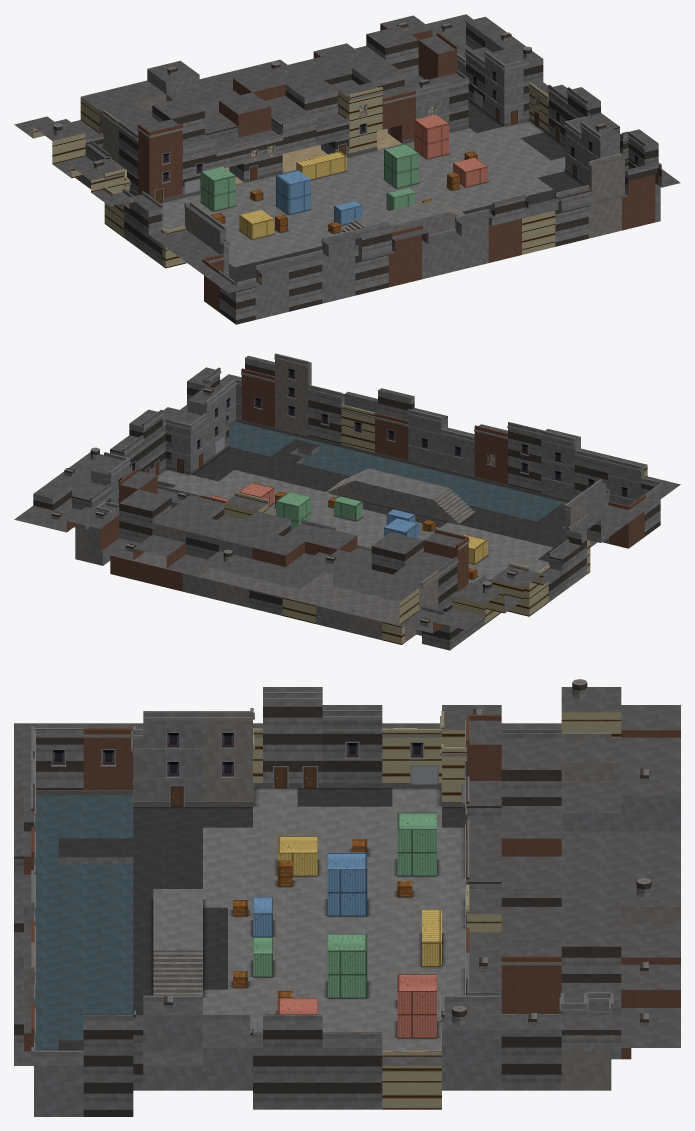
File: harbor_v3.gltf
3 renders of one model, top to bottom at view 1: azimuth 30°, elevation 25°; view 2: azimuth 150°, elevation 25°; view 3: azimuth 270°, elevation 25°, orthographic. The views are drawn at different scales.
Parts seen in each view (by area): view 1: Quarter, Detail, Windows, Shadows; view 2: Quarter, Detail, Windows, Steps; view 3: Quarter, Detail, Shadows, Windows, Steps.
Boxes of the visible parts, box(x1,y1,x2,y2) form: Quarter: box(14, 14, 680, 324); Detail: box(53, 22, 661, 322); Windows: box(161, 62, 638, 183); Shadows: box(130, 101, 584, 239); Quarter: box(14, 355, 680, 650); Detail: box(51, 353, 661, 647); Windows: box(117, 367, 628, 504); Steps: box(326, 469, 475, 524); Quarter: box(14, 687, 680, 1116); Detail: box(31, 679, 651, 1116); Shadows: box(133, 788, 464, 1038); Windows: box(34, 732, 466, 1048); Steps: box(153, 889, 202, 995).
Bounding box in the file's own units: 81.5 × 13.7 × 67.
28 materials, 27 textured.
